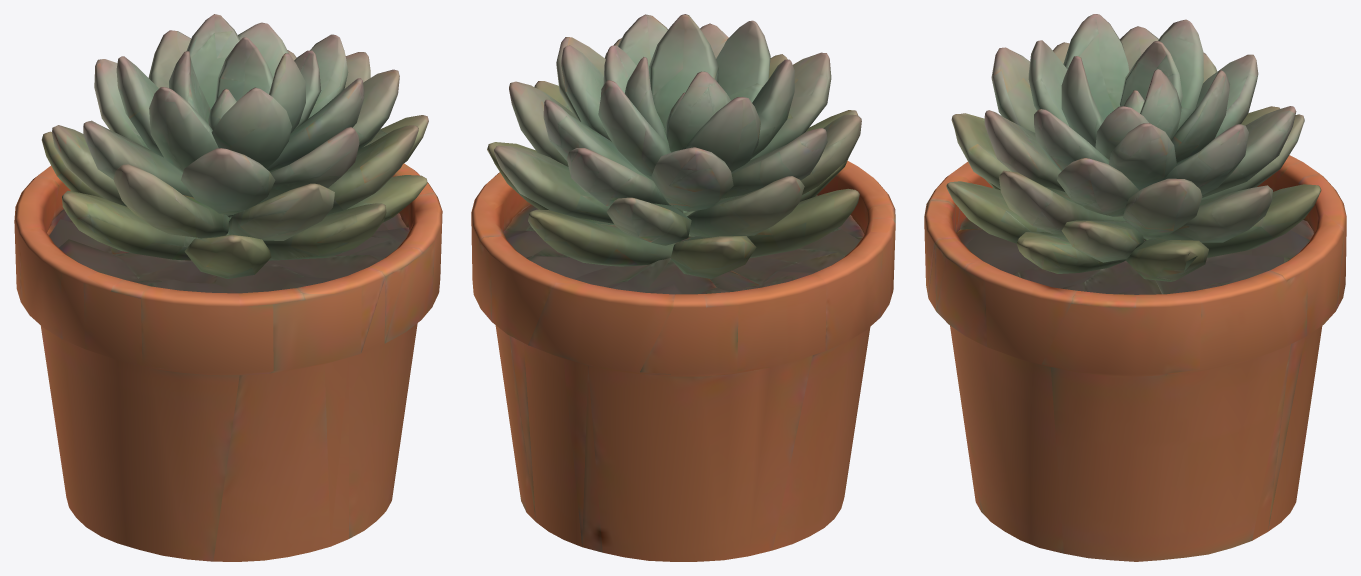
File: echeveria.glb
3 renders of one model, left to right at view 1: azimuth 30°, elevation 25°; view 2: azimuth 150°, elevation 25°; view 3: azimuth 270°, elevation 25°, orthographic.
Size of the model in its own units: 0.8583 by 1 by 0.8507.
Materials: 1 (1 with a texture image).
